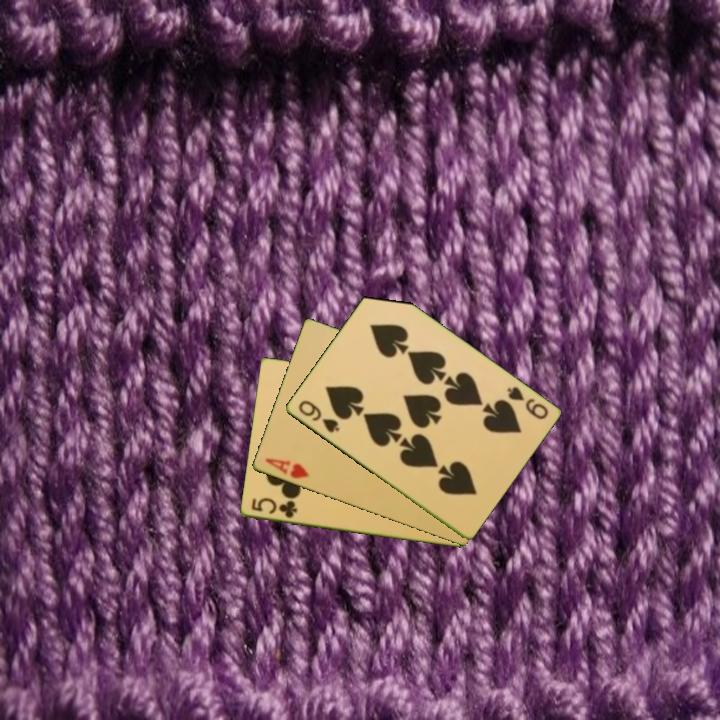5c: (247, 495, 300, 521)
9s: (503, 383, 551, 423), (294, 397, 342, 436)
Ah: (261, 454, 312, 482)
